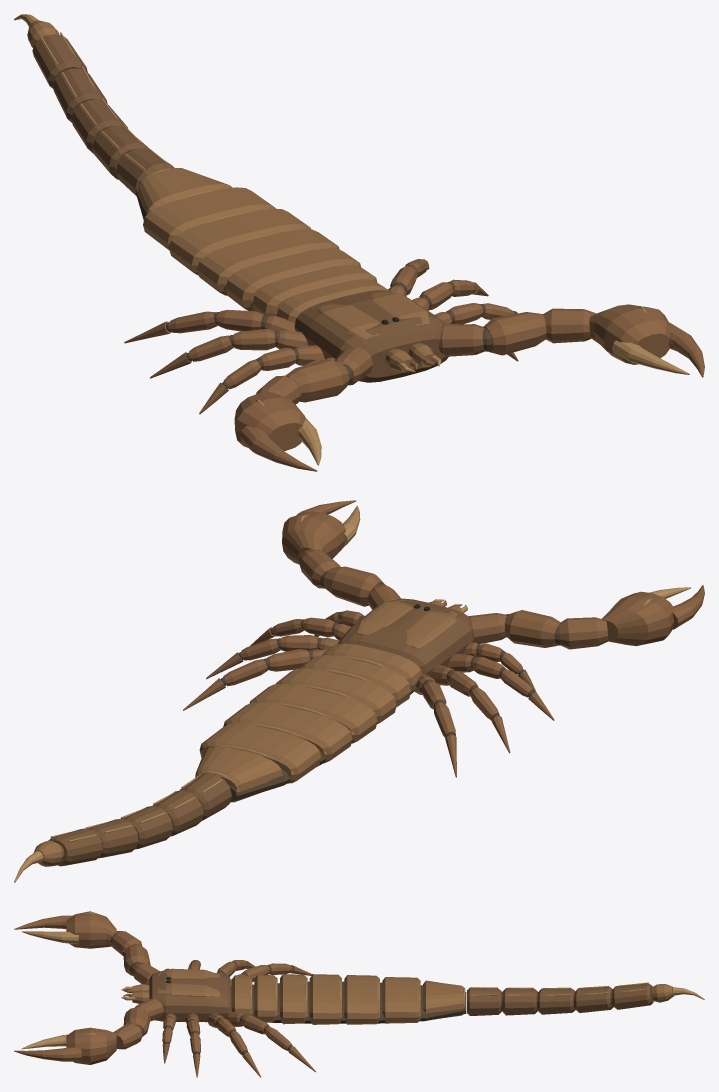
3 renders of one model, top to bottom at view 1: azimuth 30°, elevation 25°; view 2: azimuth 150°, elevation 25°; view 3: azimuth 270°, elevation 25°, orthographic. The views are drawn at different scales.
Parts seen in each view (by area): view 1: Palaeophonus-chelae, Palaeophonus-plates, Palaeophonus-carapace, Palaeophonus-ridges, Palaeophonus-joint; view 2: Palaeophonus-chelae, Palaeophonus-plates, Palaeophonus-carapace, Palaeophonus-ridges, Palaeophonus-joint; view 3: Palaeophonus-plates, Palaeophonus-chelae, Palaeophonus-carapace, Palaeophonus-ridges, Palaeophonus-joint.
Part boxes in pixels (x1,y1,x2,y2): Palaeophonus-chelae: [124, 259, 704, 471]; Palaeophonus-plates: [27, 20, 434, 372]; Palaeophonus-carapace: [32, 34, 448, 382]; Palaeophonus-ridges: [14, 14, 689, 465]; Palaeophonus-joint: [58, 68, 542, 388]; Palaeophonus-chelae: [183, 500, 704, 777]; Palaeophonus-plates: [33, 599, 461, 866]; Palaeophonus-carapace: [48, 598, 473, 866]; Palaeophonus-ridges: [14, 506, 691, 882]; Palaeophonus-joint: [136, 570, 560, 836]; Palaeophonus-plates: [132, 968, 673, 1024]; Palaeophonus-chelae: [14, 911, 315, 1077]; Palaeophonus-carapace: [149, 970, 653, 1022]; Palaeophonus-ridges: [21, 912, 704, 1049]; Palaeophonus-joint: [129, 944, 613, 1054].
Bounding box in the file's own units: 0.0364 × 0.00632 × 0.0763.
